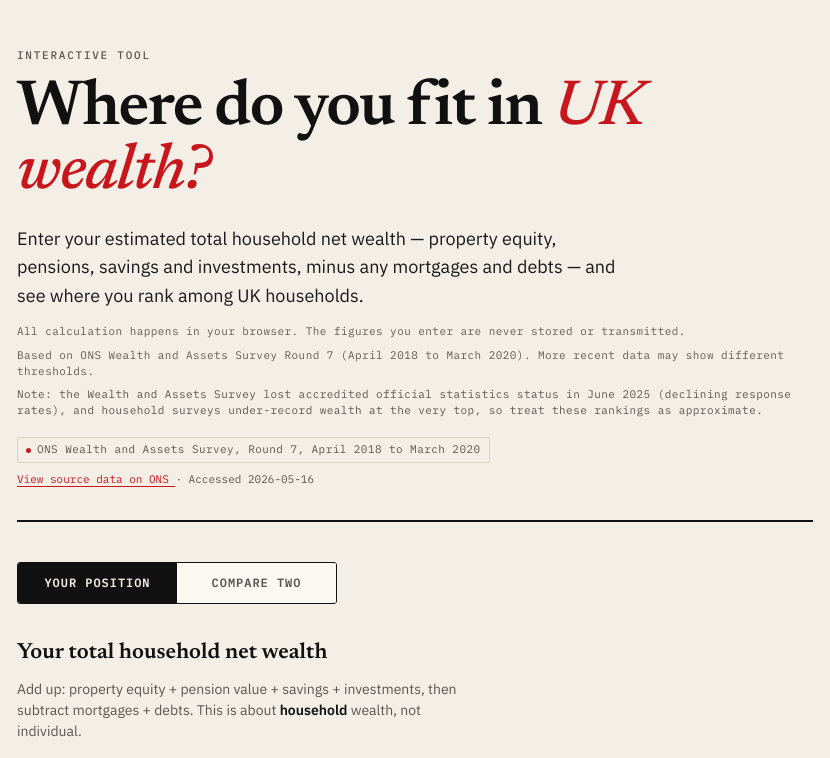
Test case: WealthCalculator — compare mode inputs › renders two input fields in compare mode
Step 1. Click the tab with id "tab-compare" → x=256, y=583, box [177,564,336,603]
(page scrolled)
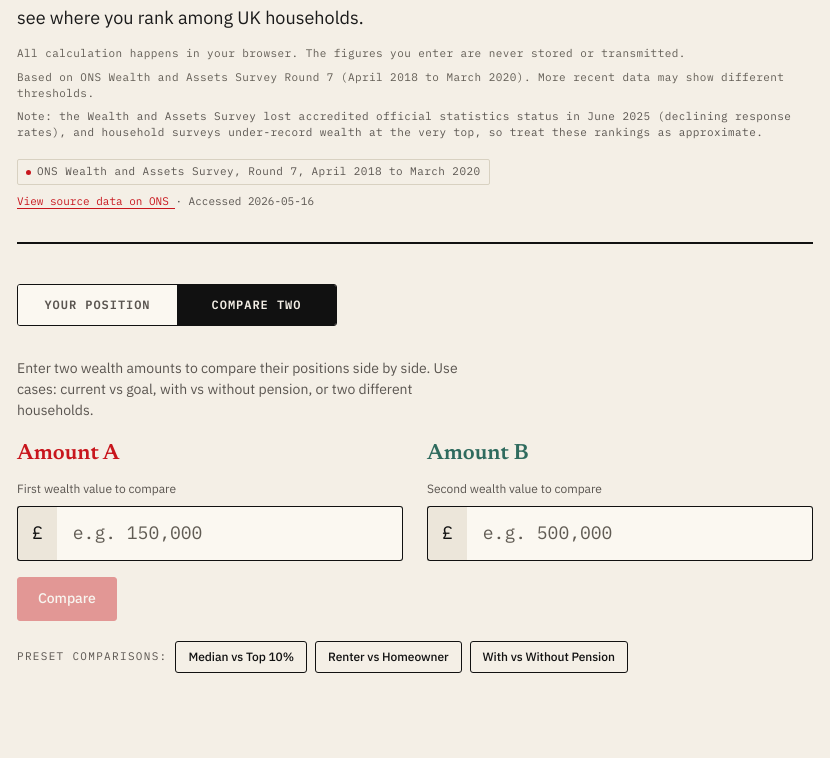
Expected: the field with id "compare-input-a" is shown, [57,506,403,561]
Expected: the field with id "compare-input-b" is shown, [467,506,813,561]
